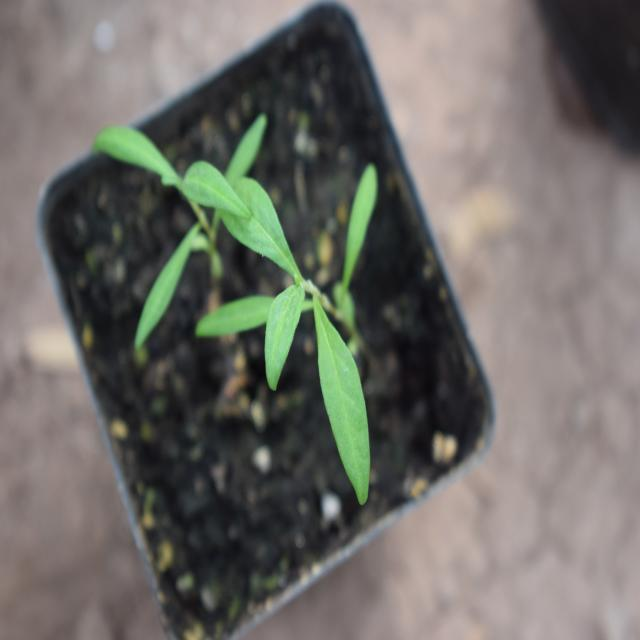white_smart_weed: (232, 164, 409, 490), (64, 87, 271, 313)
